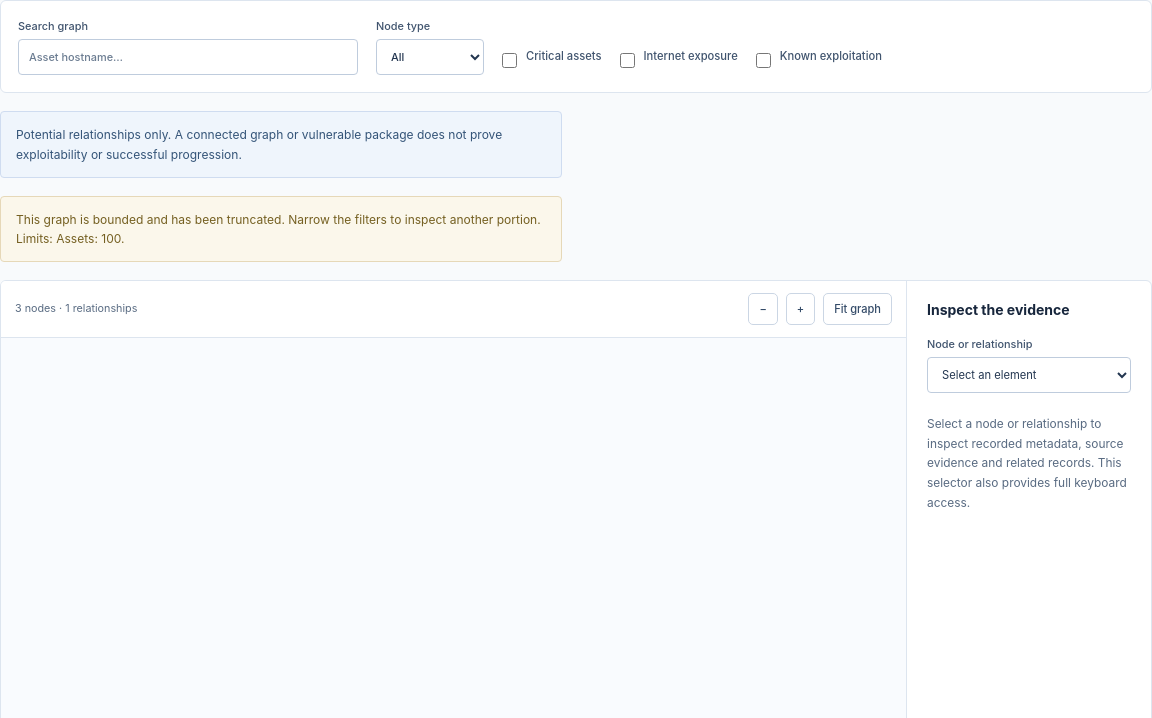
Test: bounded graph investigation › discloses truncation, supports zoom and keyboard node/edge inspection
Check: the text "This graph is bounded and has been truncated" is shown, box [16,212,541,246]
Click the button named "Zoom in" at (800, 309), box [786,293,815,325]
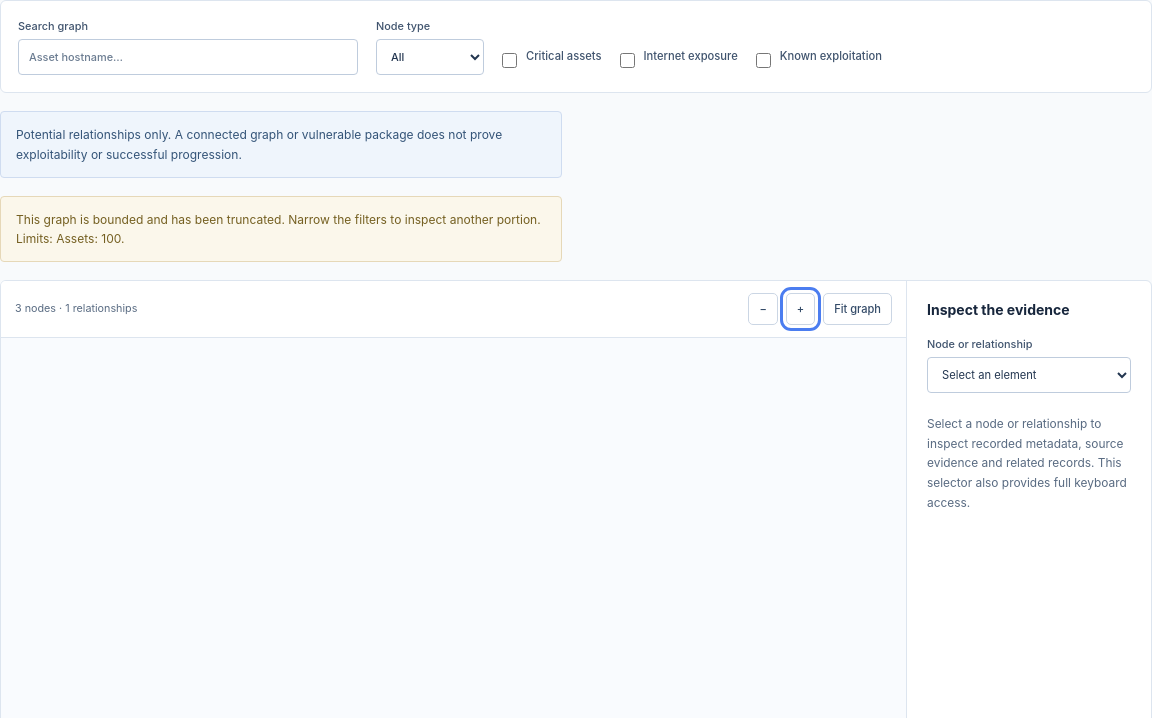
Click the button "Fit graph" at (858, 309), box [823,293,892,325]
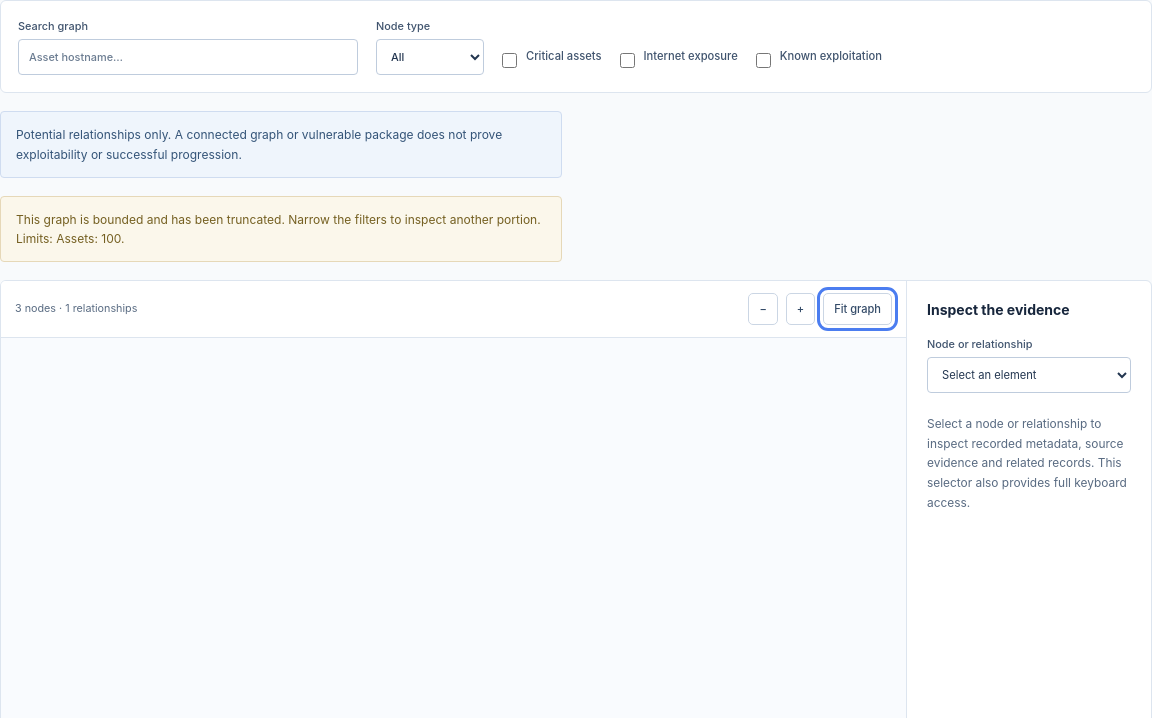
Select "Synthetic contextual risk · vulnerability" in the dropdown labelled "Node or relationship" at (1029, 375), box [927,357,1131,393]
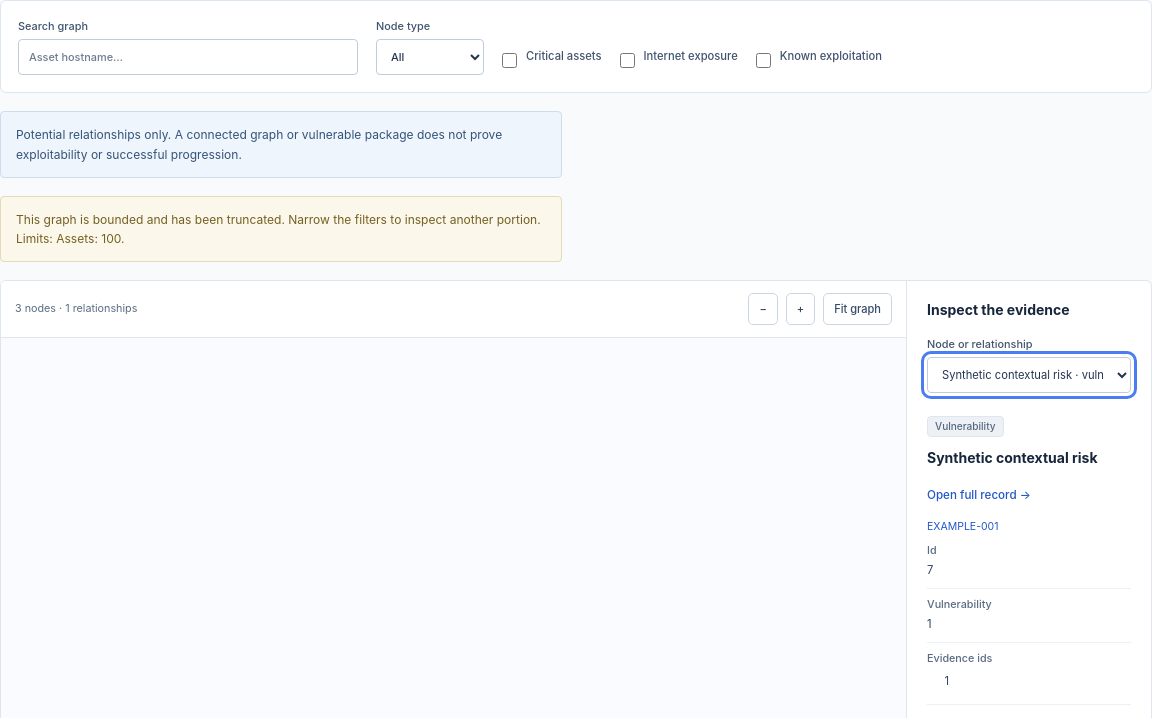
Select "ExampleWeb 1.0 · software" in the dropdown labelled "Node or relationship" at (1029, 375), box [927,357,1131,393]
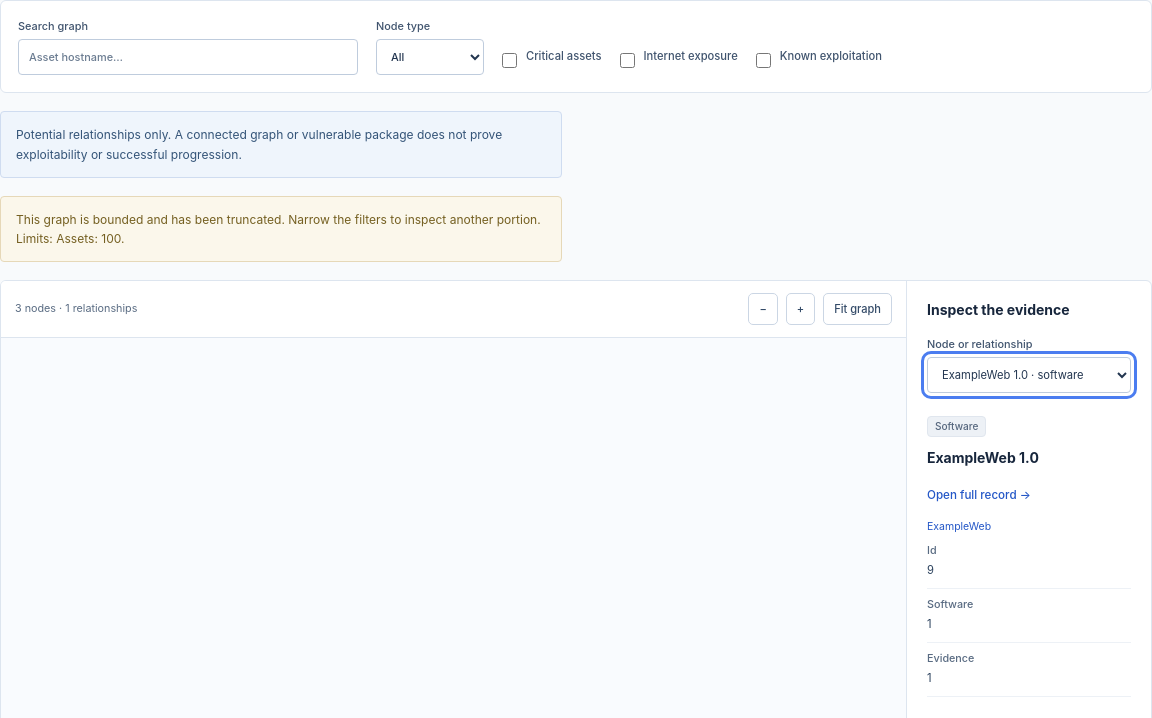
Select "asset-1 → risk-7 · AFFECTED_BY" in the dropdown labelled "Node or relationship" at (1029, 375), box [927,357,1131,393]
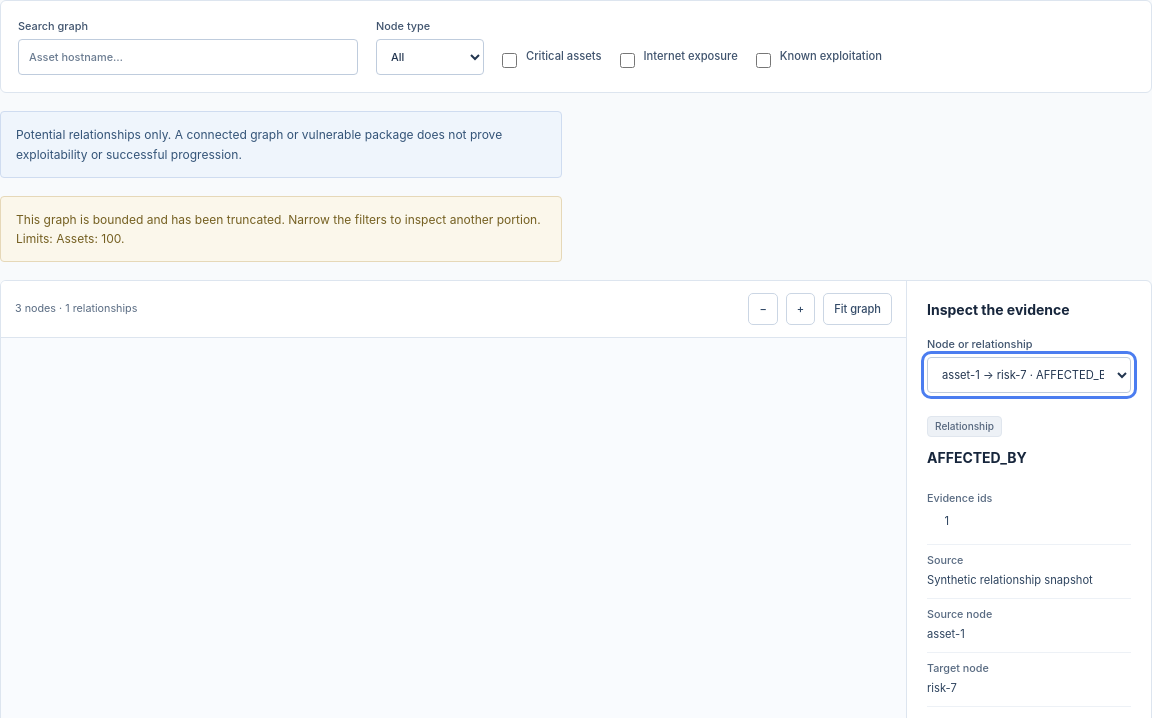
Check: the heading "AFFECTED_BY" is shown, box [927,449,1027,466]
Check: the text "asset-1" is shown, box [927,627,965,641]
Check: the text "Synthetic relationship snapshot" is shown, box [927,573,1093,587]
